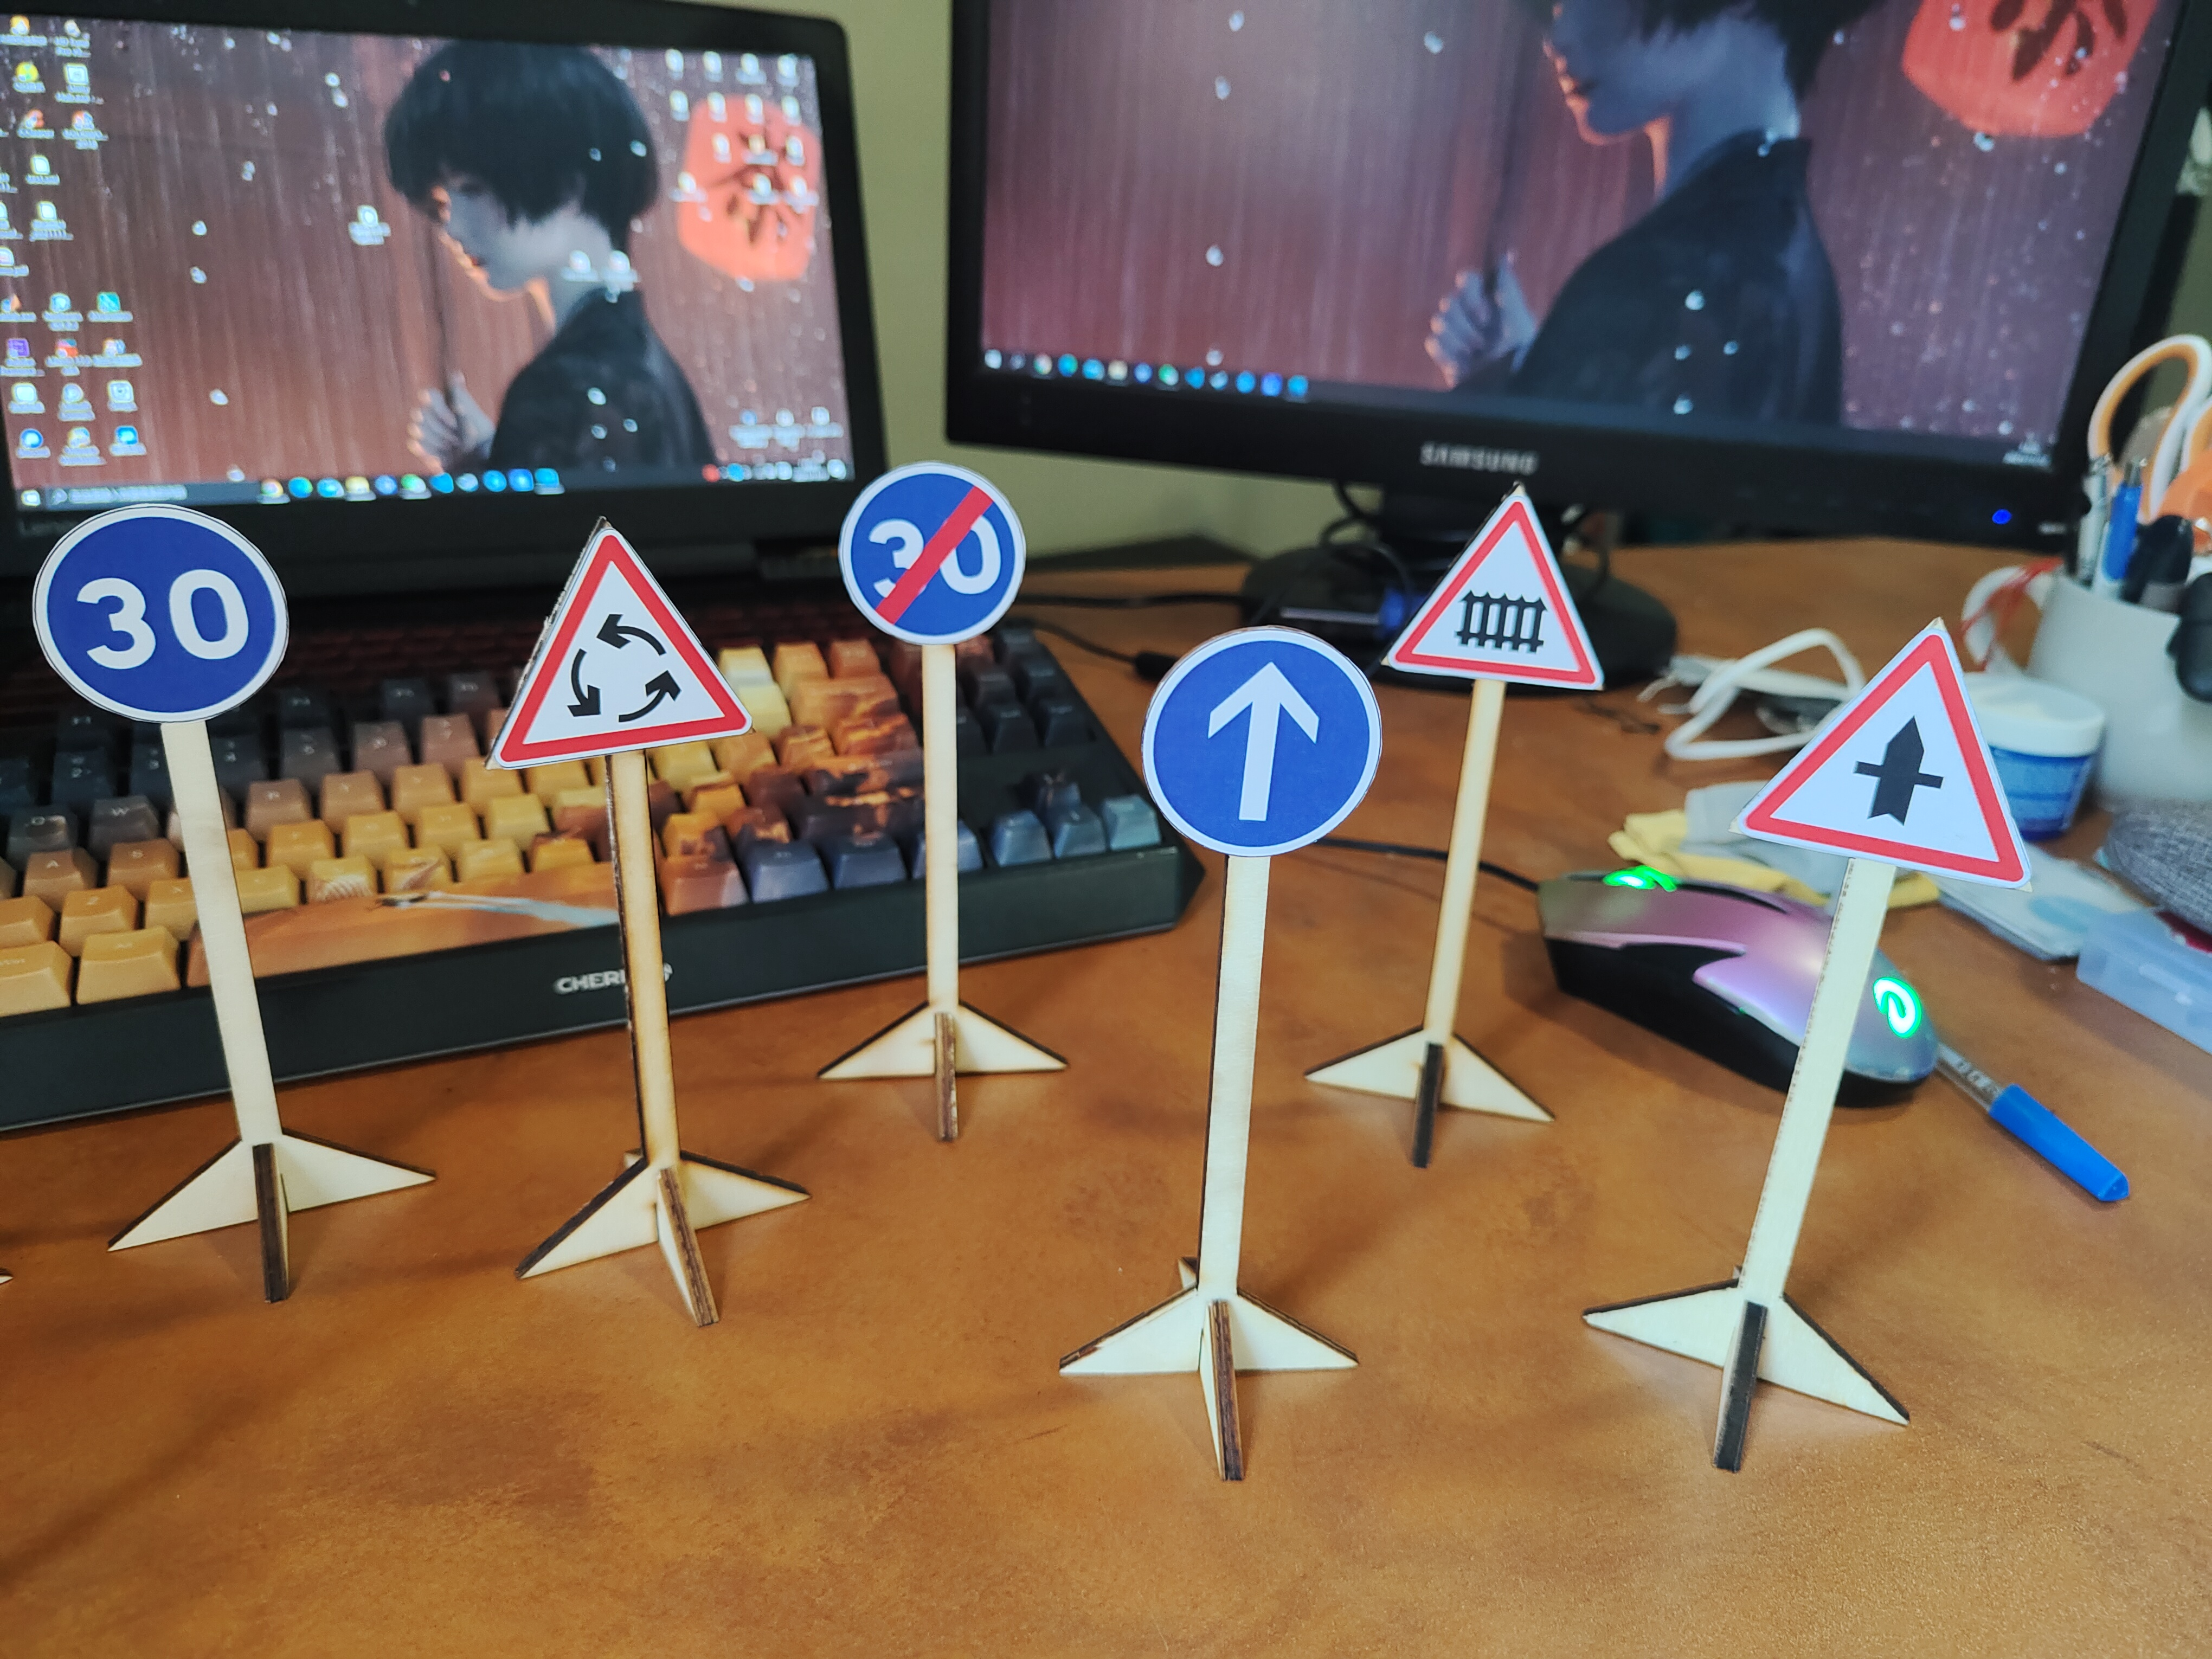P: (1153, 613, 1385, 861)
ban: (841, 465, 1022, 638)
cycle: (486, 505, 759, 758)
first: (1752, 624, 2031, 885)
thirty: (26, 495, 284, 720)
train: (1385, 484, 1597, 688)
